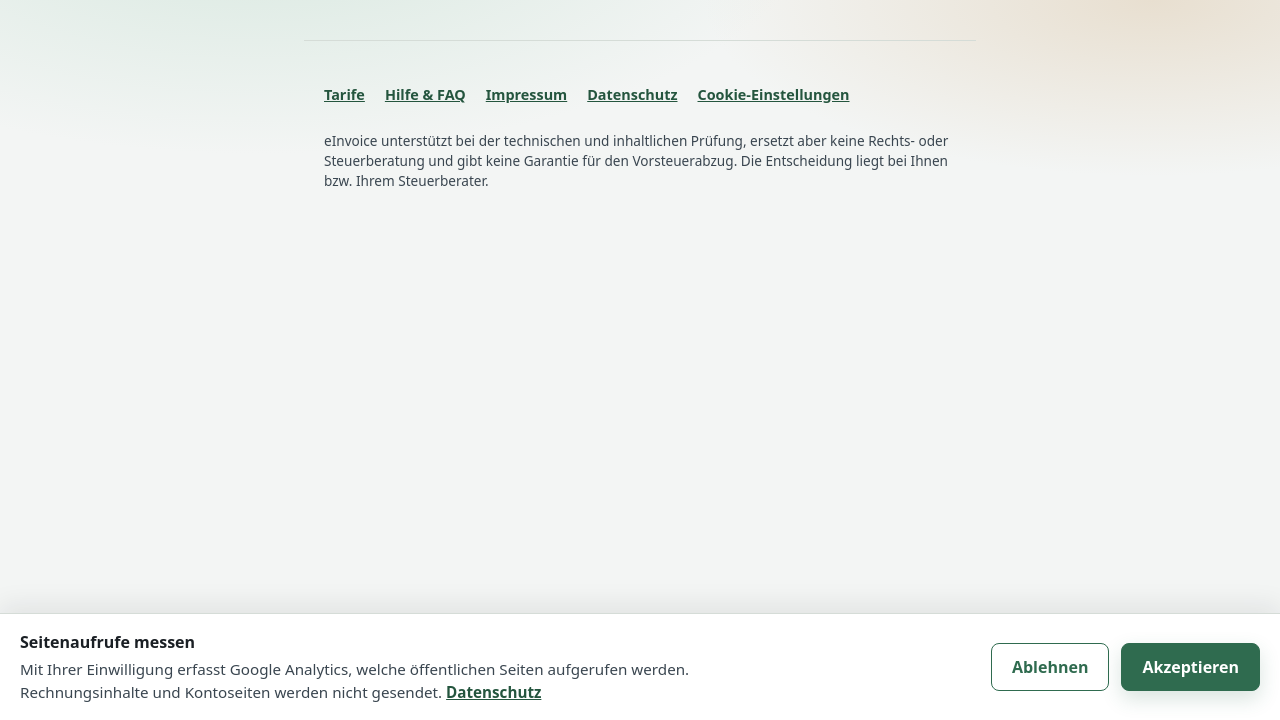
ConsentBanner › remembers Ablehnen and opens again from the footer
Click the button "Ablehnen".
click(1050, 667)  # box [991,643,1110,691]
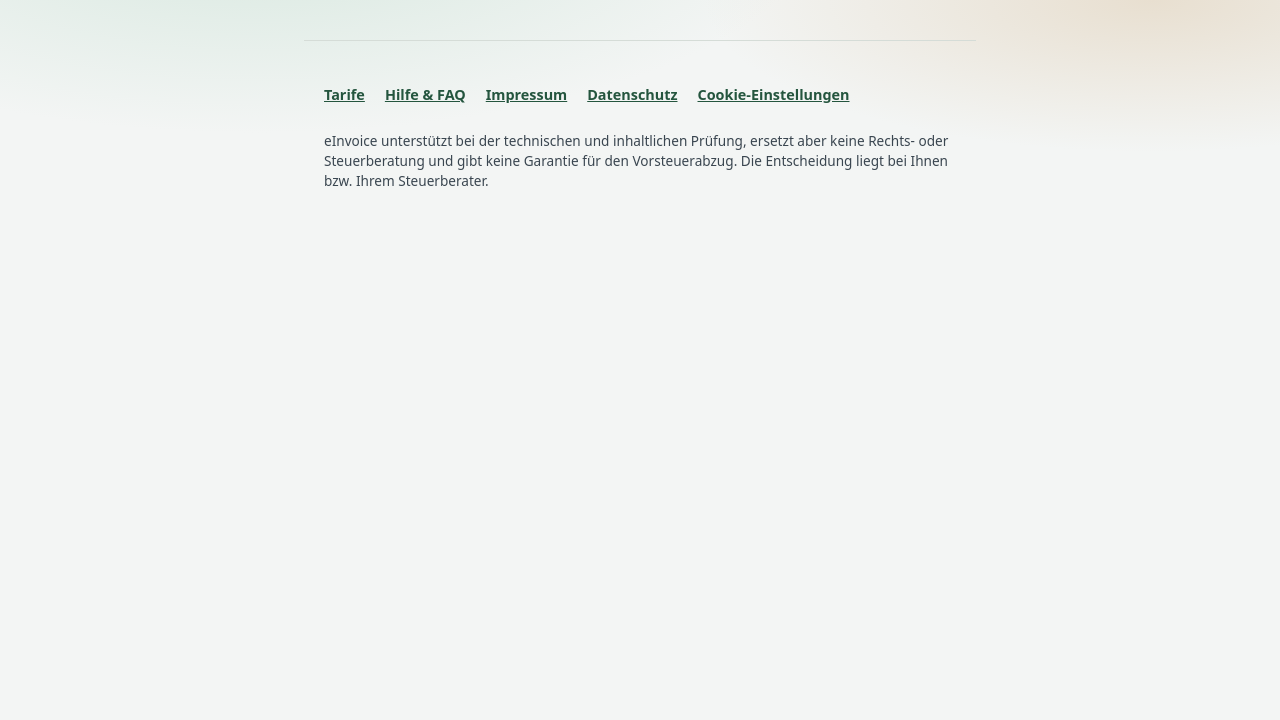
Click the button "Cookie-Einstellungen".
click(774, 95)  # box [698,73,850,117]
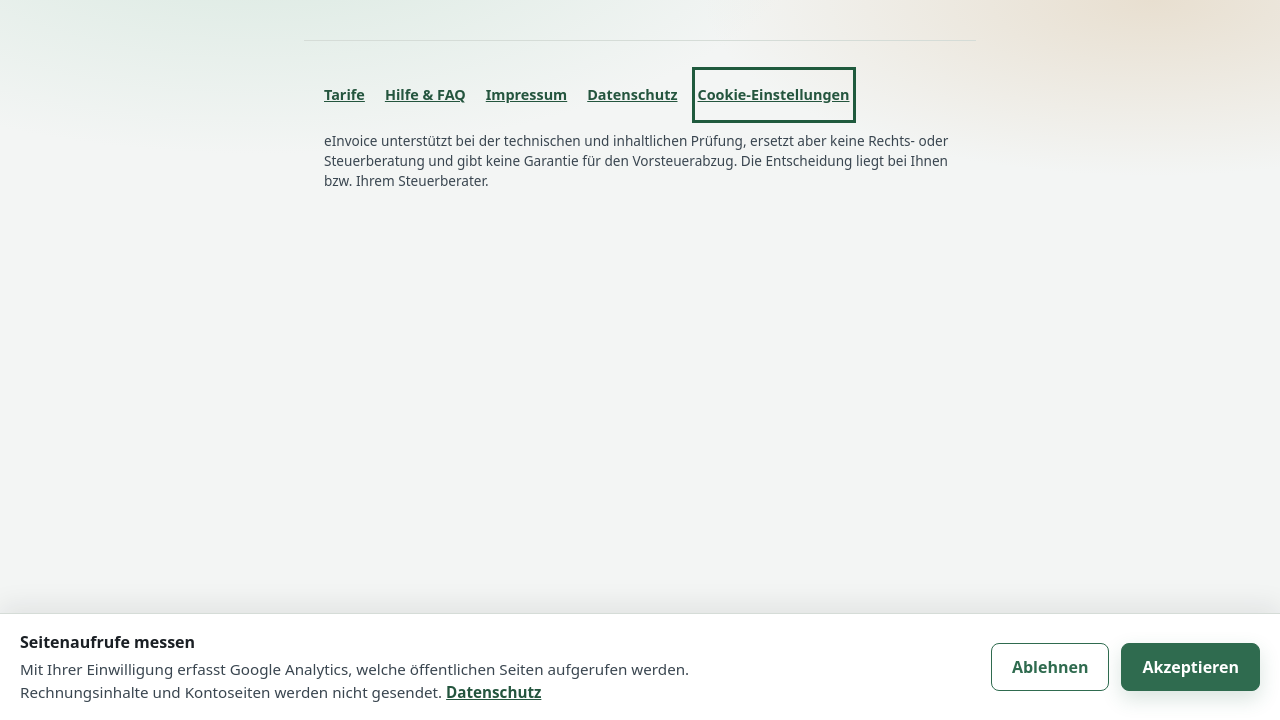
Expected: the element named "Einwilligung für Google Analytics" is shown, [0,613,1279,719]
